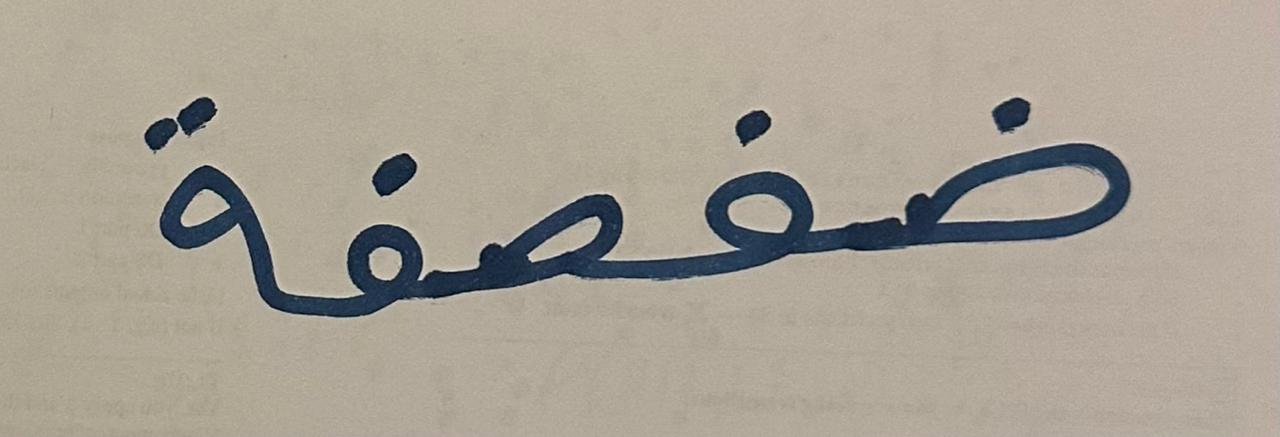dad: (854, 42, 1156, 325)
feh: (638, 27, 851, 348), (291, 42, 437, 359)
seen: (440, 68, 635, 325)
thal: (91, 25, 289, 356)
